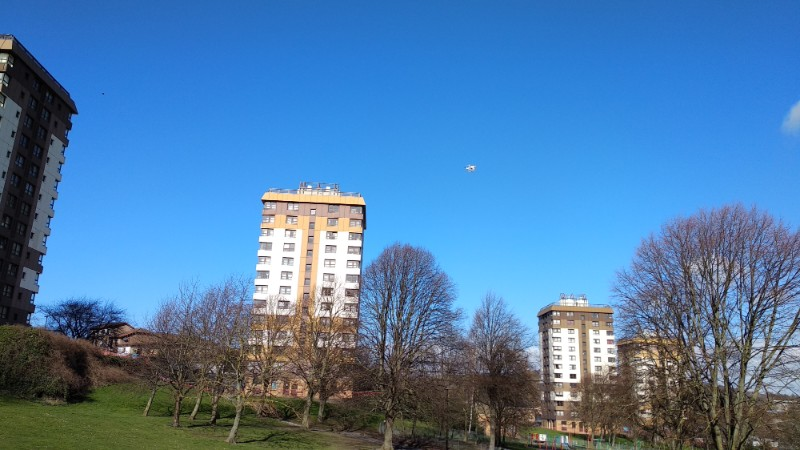drone: (463, 161, 477, 173)
